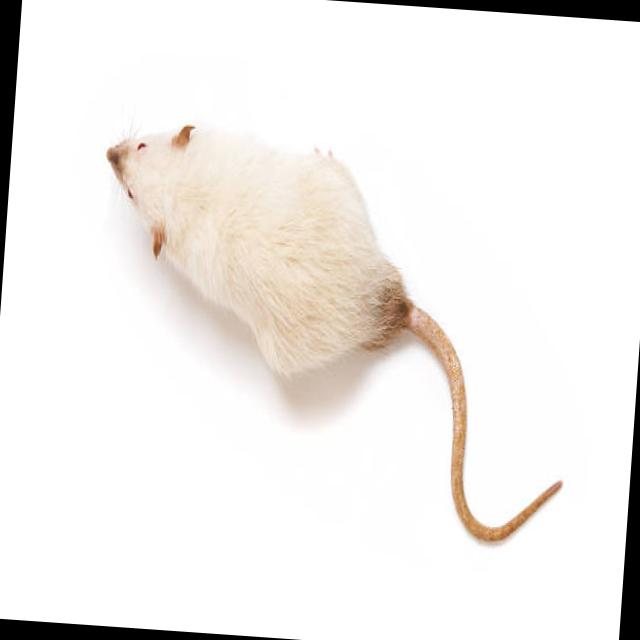rodents: (72, 82, 440, 408)
